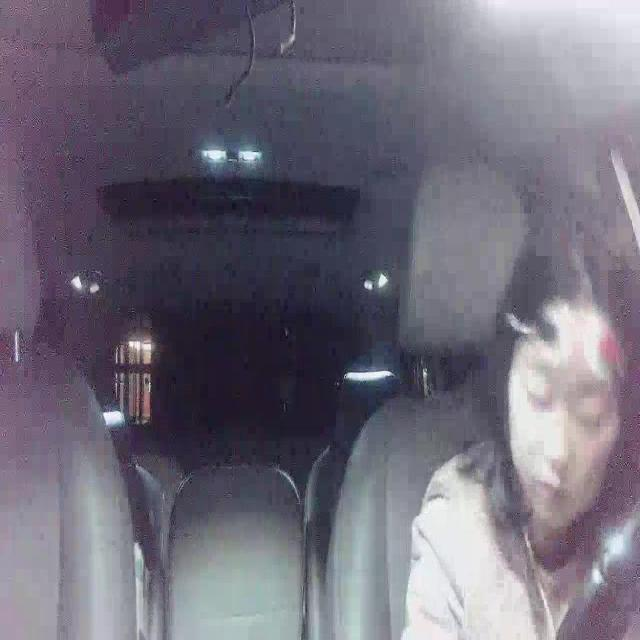Inattentive: (500, 184, 640, 529)
